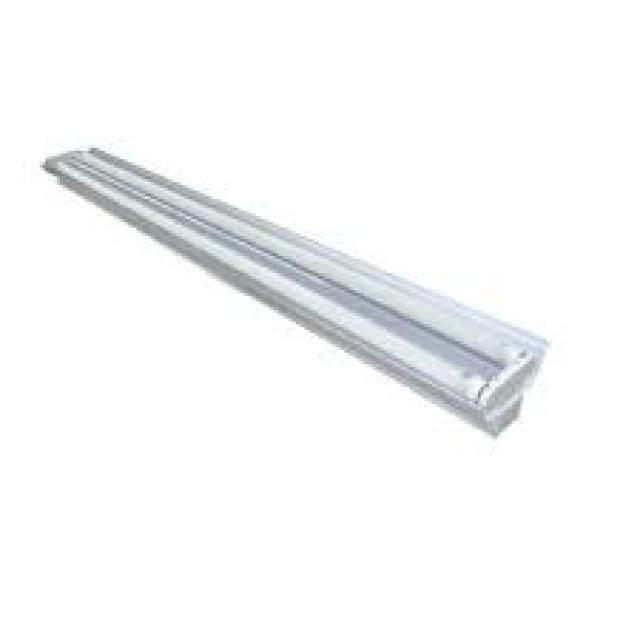tubelight_off: (37, 143, 562, 455)
